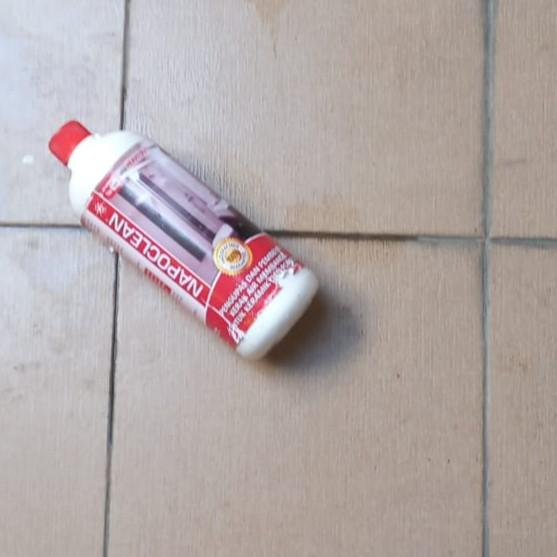Plastik: (49, 119, 318, 361)
